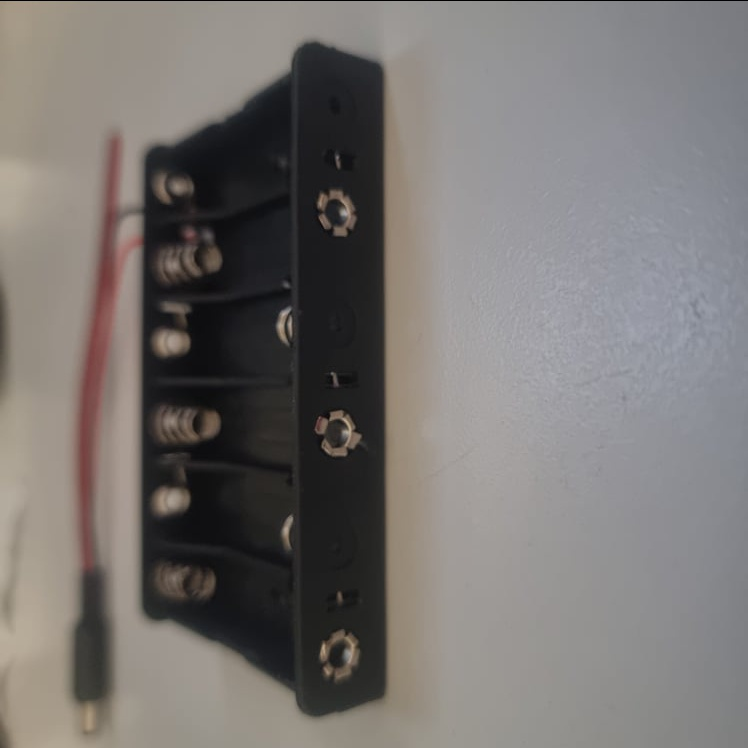BATTERY BOX: (130, 40, 390, 710)
